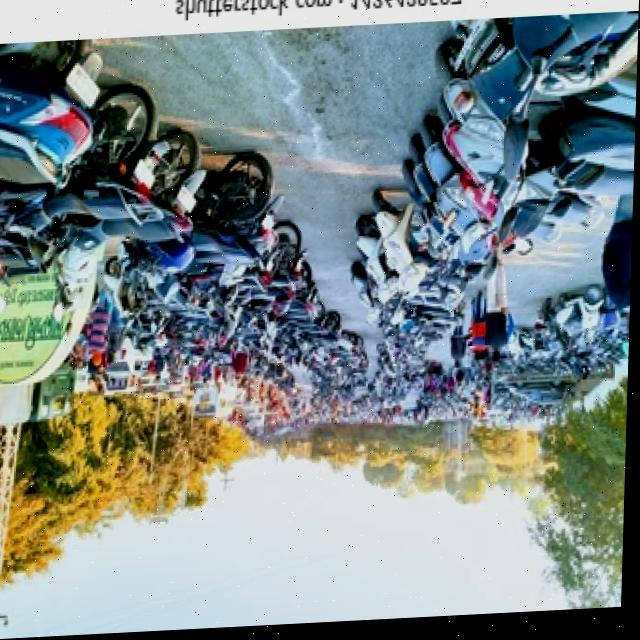plate: (63, 60, 110, 114), (132, 161, 156, 195), (179, 188, 201, 222), (263, 217, 280, 238)
